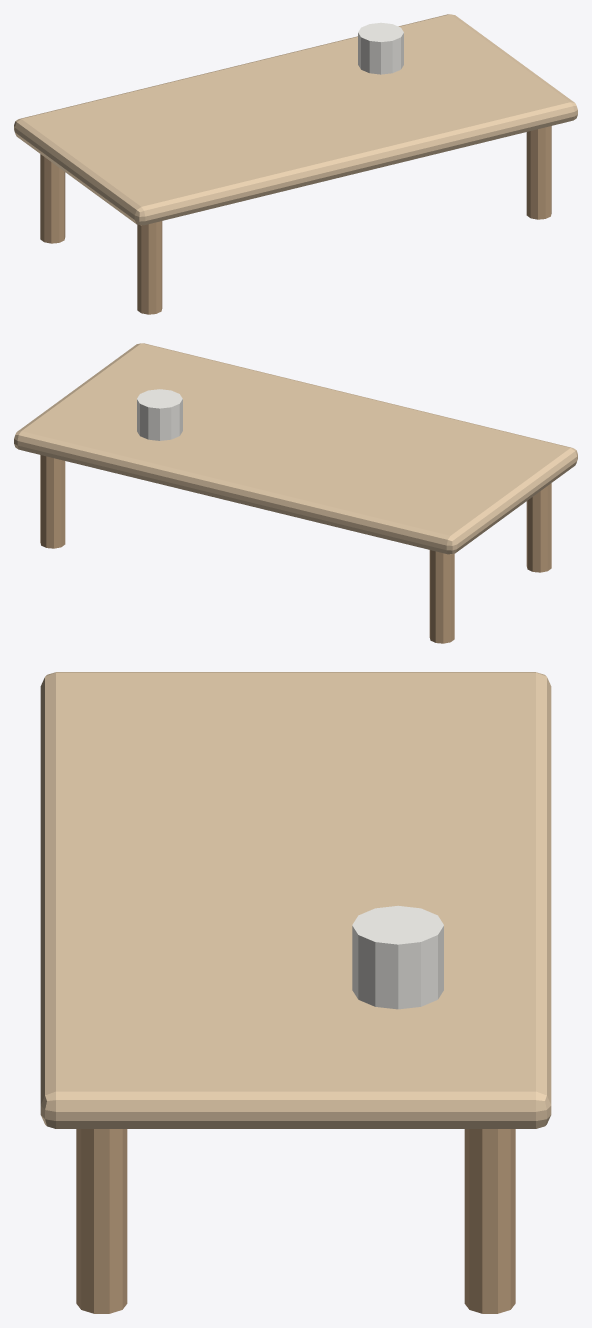
Rendered from coffee_table.glb.
The picture shows the model from 3 angles, top to bottom: view 1: azimuth 30°, elevation 25°; view 2: azimuth 150°, elevation 25°; view 3: azimuth 270°, elevation 25°; orthographic projection. The views are drawn at different scales.
Parts seen in each view (by area): view 1: CoffeeTable; view 2: CoffeeTable; view 3: CoffeeTable.
Part boxes in pixels (x1,y1,x2,y2): CoffeeTable: (14,14,577,314); CoffeeTable: (14,343,577,643); CoffeeTable: (40,672,551,1313).
Size of the model in its own units: 2 by 0.64 by 1.
